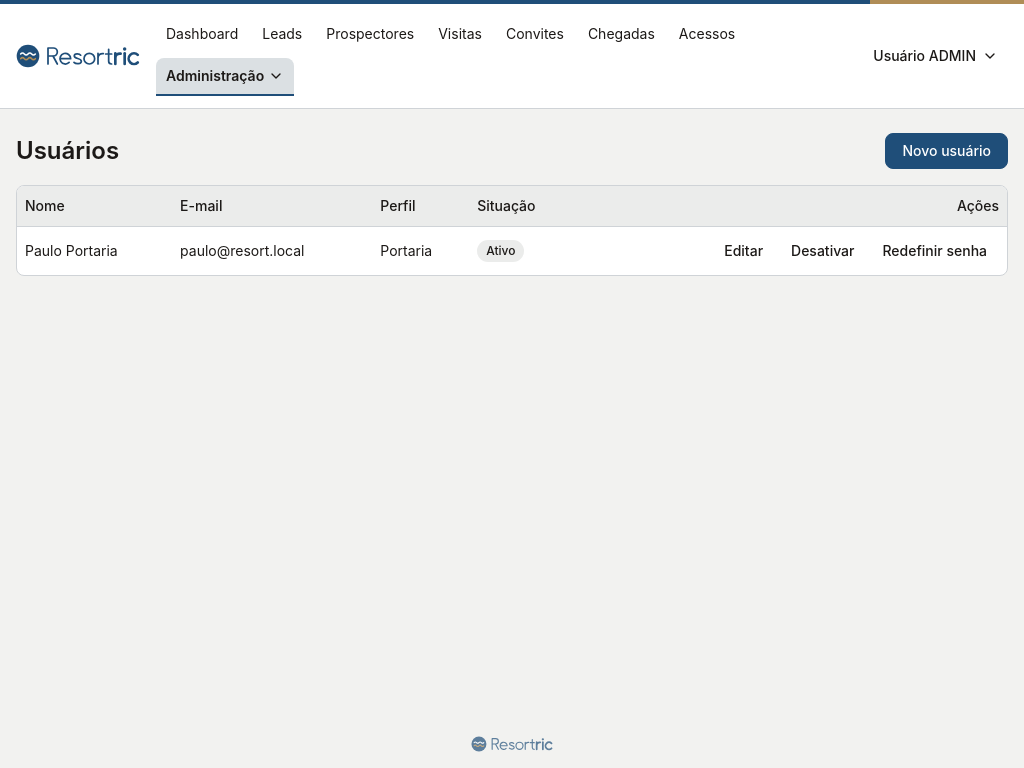
Test: senha temporária › é exibida após a redefinição e some ao fechar
Click the button "Redefinir senha" at (935, 250), box [870,234,999,266]
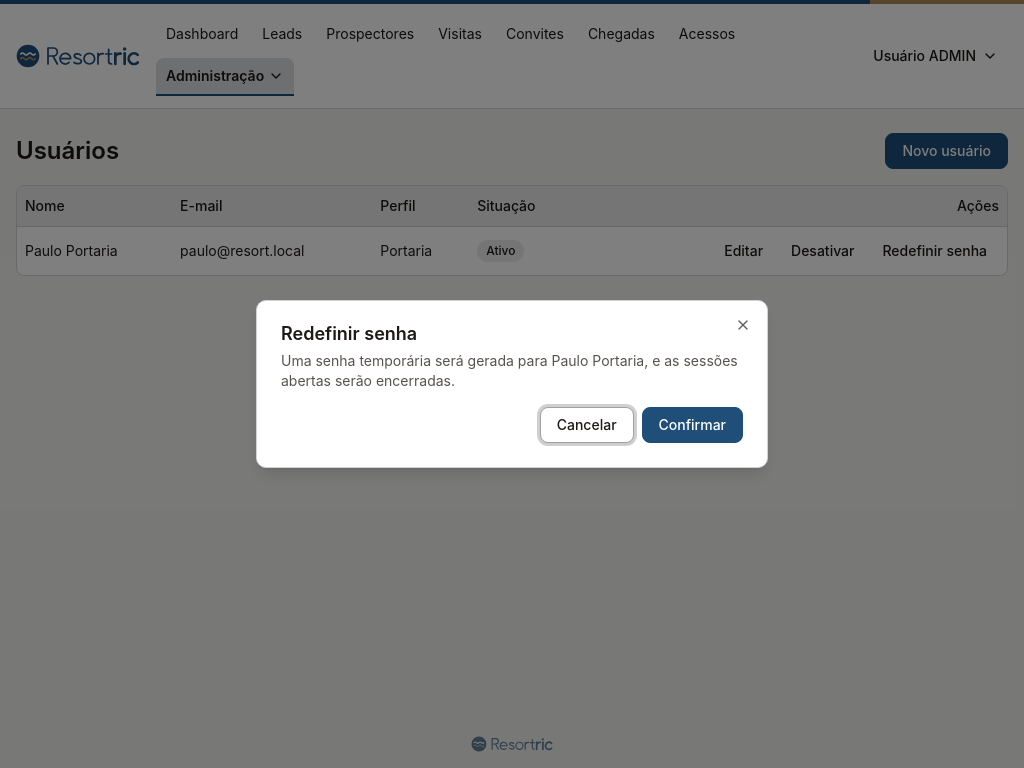
Click the button "Confirmar" at (692, 425), box [642,407,743,443]
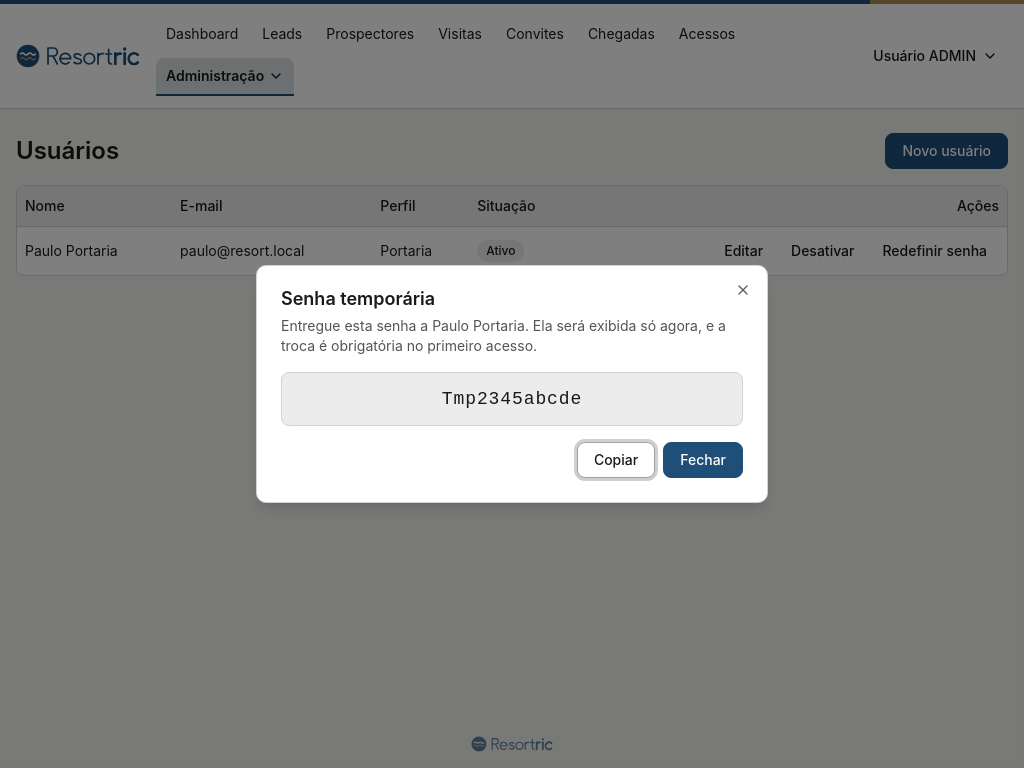
Check: the text with test id "temporary-password" reads "Tmp2345abcde", box [442,389,582,409]
Click the button "Fechar" at (703, 460), box [663,442,743,478]
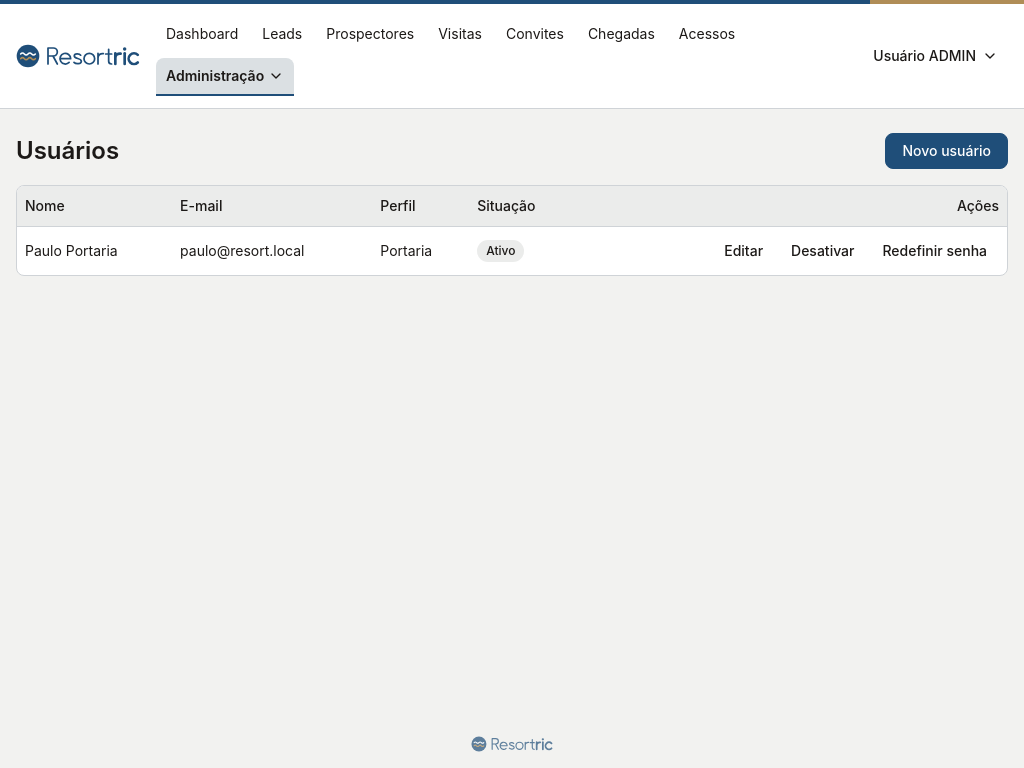
Check: the text "Tmp2345abcde" is gone
